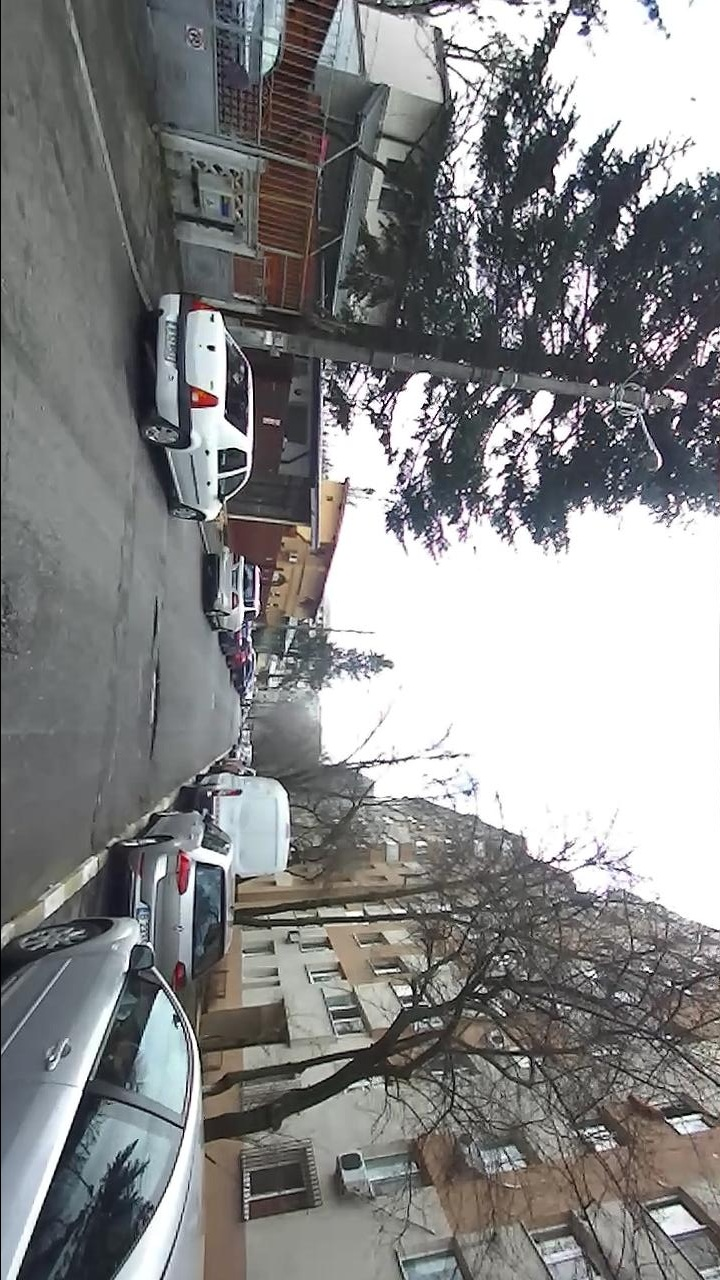pothole: (147, 667, 161, 757), (1, 596, 13, 656), (151, 597, 158, 645)
